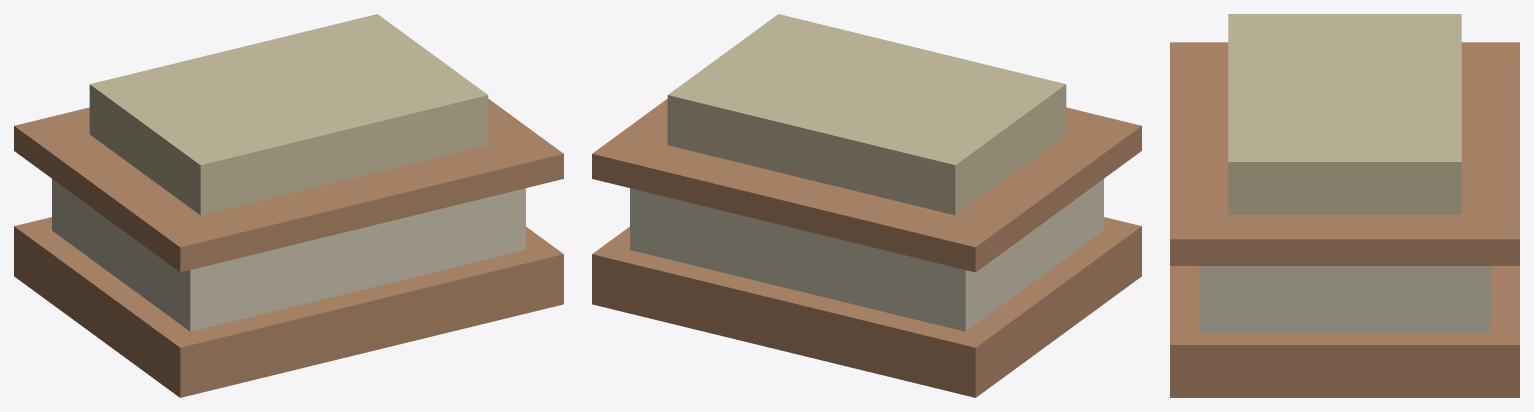
Rendered from food-08.glb.
3 renders of one model, left to right at view 1: azimuth 30°, elevation 25°; view 2: azimuth 150°, elevation 25°; view 3: azimuth 270°, elevation 25°, orthographic. The views are drawn at different scales.
Visible parts, largest first — view 1: Recipe book; view 2: Recipe book; view 3: Recipe book.
Boxes of the visible parts, left/top/right/bottom form: Recipe book: left=14, top=14, right=563, bottom=397; Recipe book: left=592, top=14, right=1141, bottom=397; Recipe book: left=1170, top=14, right=1519, bottom=397.
Size of the model in its own units: 1.28 by 0.64 by 0.96.
